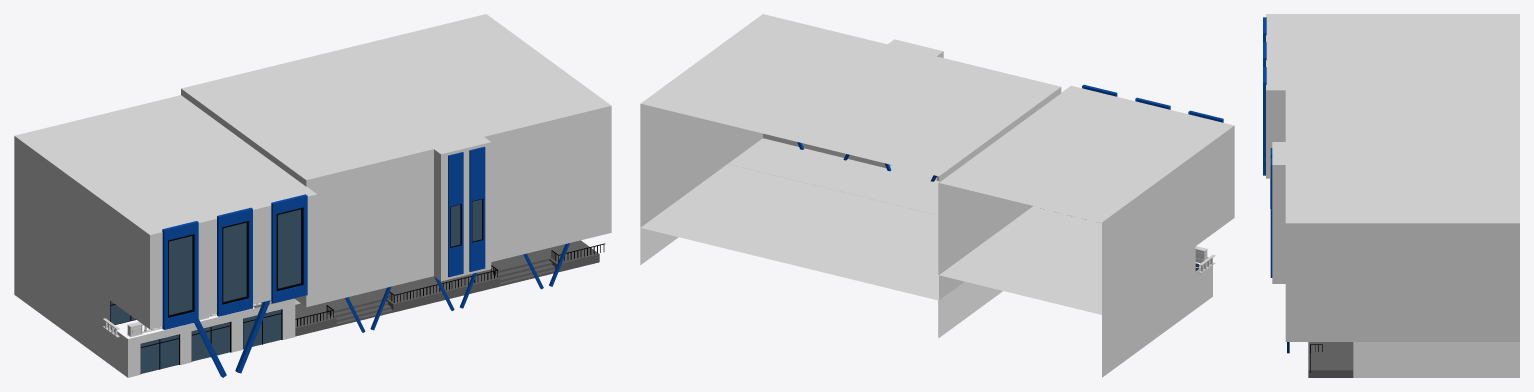
File: ISCP.fbx
The picture shows the model from 3 angles, left to right: view 1: azimuth 30°, elevation 25°; view 2: azimuth 150°, elevation 25°; view 3: azimuth 270°, elevation 25°; orthographic projection. The views are drawn at different scales.
Parts seen in each view (by area): view 1: ISCP_Main_Top, ISCP_Top, ISCP_Side, ISCP_Main_Platform, ISCP_Top_Blue, ISCP_Top_Windows, ISCP_Main_Blue, ISCP_Side_Windows, ISCP_Top_Frame, ISCP_Main_Rails, ISCP_Main_Windows, ISCP_Side_Frame; view 2: ISCP_Main_Top, ISCP_Top, ISCP_Side, ISCP_Main, ISCP_Top_Blue; view 3: ISCP_Main_Top, ISCP_Top, ISCP_Main, ISCP_Main_Platform, ISCP_Top_Blue, ISCP_Main_Blue.
Part boxes in pixels (left/top/right/bottom): ISCP_Main_Top: left=181, top=14, right=611, bottom=307; ISCP_Top: left=14, top=95, right=317, bottom=329; ISCP_Side: left=14, top=230, right=295, bottom=377; ISCP_Main_Platform: left=295, top=240, right=599, bottom=336; ISCP_Top_Blue: left=162, top=194, right=307, bottom=377; ISCP_Top_Windows: left=169, top=209, right=300, bottom=315; ISCP_Main_Blue: left=345, top=146, right=569, bottom=332; ISCP_Side_Windows: left=111, top=301, right=281, bottom=373; ISCP_Top_Frame: left=168, top=207, right=303, bottom=317; ISCP_Main_Rails: left=295, top=243, right=604, bottom=326; ISCP_Main_Windows: left=451, top=199, right=481, bottom=246; ISCP_Side_Frame: left=110, top=301, right=282, bottom=373; ISCP_Main_Top: left=640, top=14, right=1061, bottom=300; ISCP_Top: left=938, top=85, right=1234, bottom=314; ISCP_Side: left=938, top=246, right=1212, bottom=377; ISCP_Main: left=640, top=228, right=1002, bottom=337; ISCP_Top_Blue: left=1082, top=84, right=1223, bottom=122; ISCP_Main_Top: left=1272, top=84, right=1519, bottom=341; ISCP_Top: left=1266, top=14, right=1519, bottom=178; ISCP_Main: left=1353, top=342, right=1519, bottom=377; ISCP_Main_Platform: left=1308, top=342, right=1353, bottom=377; ISCP_Top_Blue: left=1263, top=17, right=1270, bottom=208; ISCP_Main_Blue: left=1270, top=148, right=1289, bottom=353.
Bounding box in the file's own units: 6179 × 2061 × 3029.
